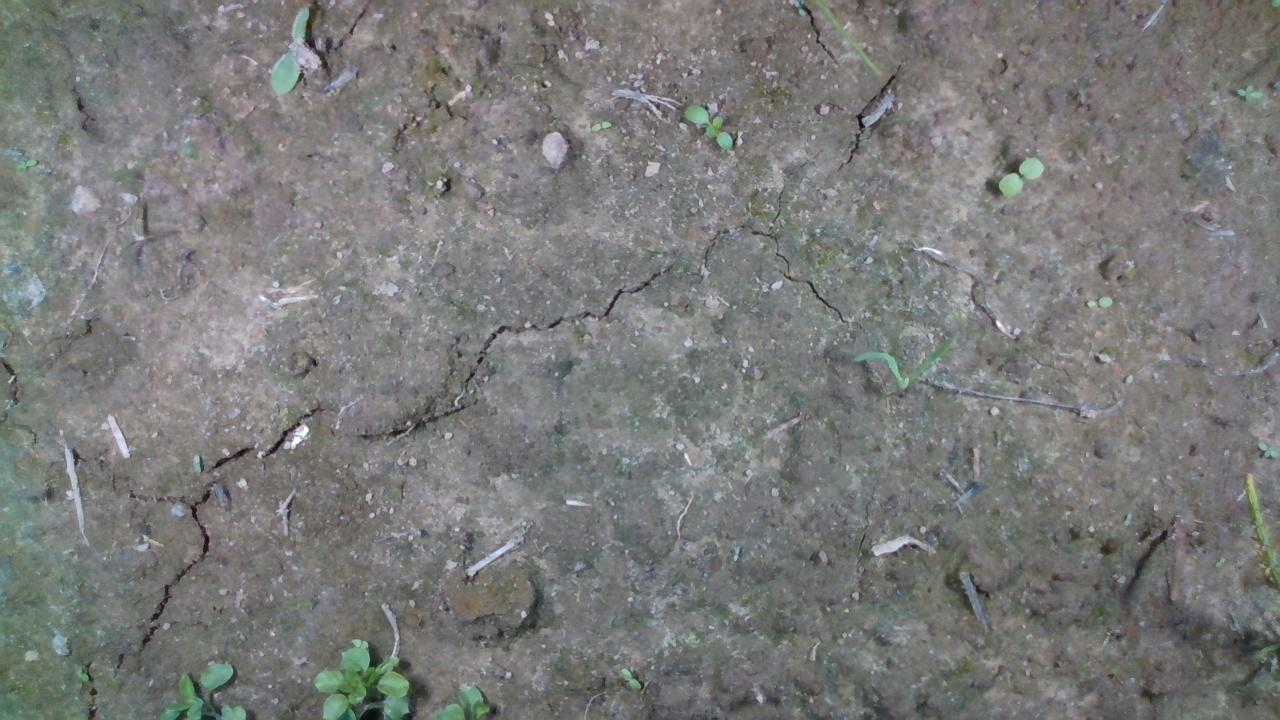weed: (678, 99, 755, 150), (996, 154, 1047, 196), (1079, 294, 1116, 309)
